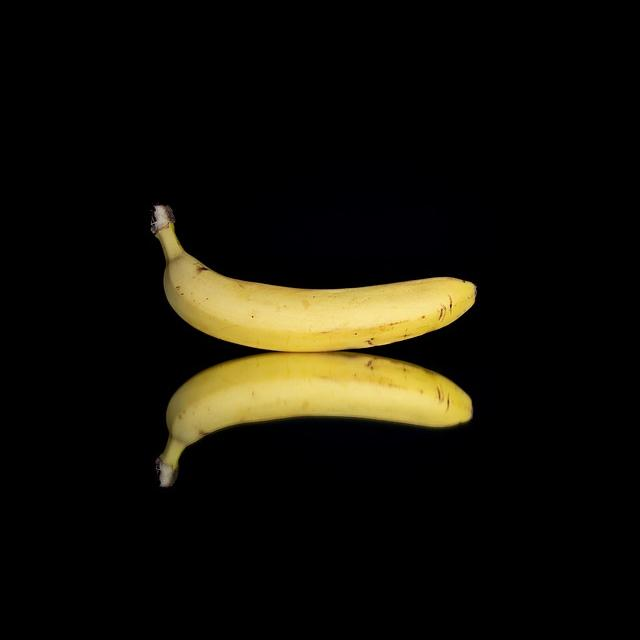apple: (134, 227, 512, 354), (158, 355, 486, 450)
